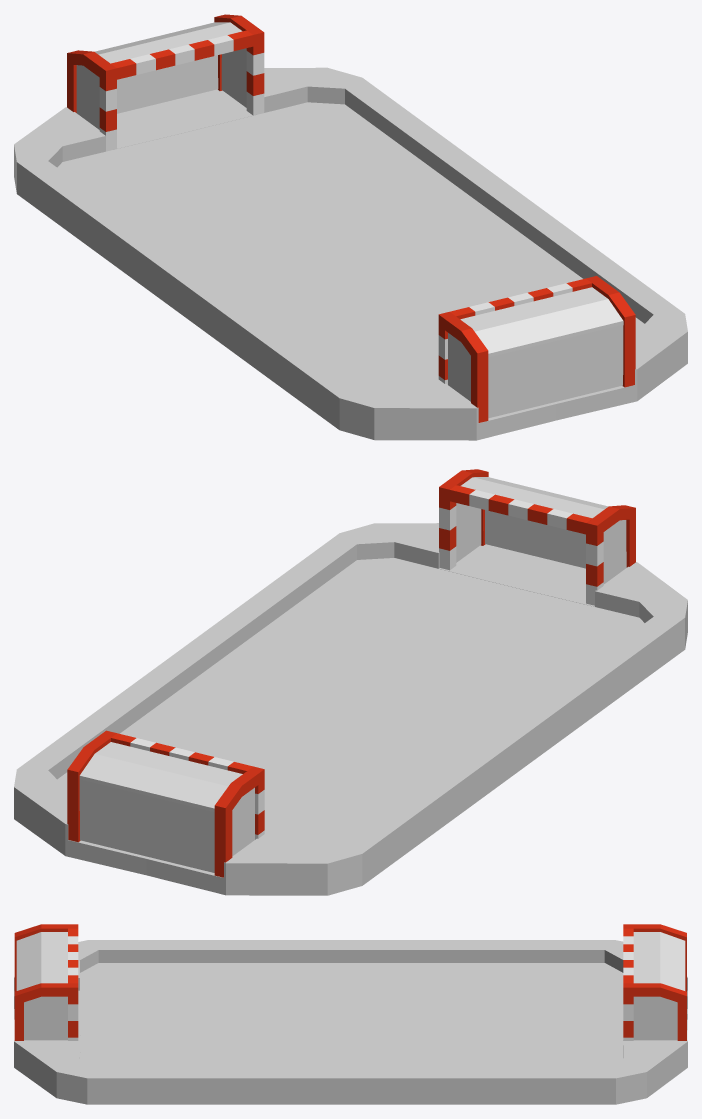
File: saha1 1.fbx
The picture shows the model from 3 angles, top to bottom: view 1: azimuth 30°, elevation 25°; view 2: azimuth 150°, elevation 25°; view 3: azimuth 270°, elevation 25°; orthographic projection. The views are drawn at different scales.
Parts seen in each view (by area): view 1: Ground, Goal; view 2: Ground, Goal; view 3: Ground, Goal.
Part boxes in pixels (x1,y1,x2,y2): Ground: (14,67,687,440); Goal: (67,14,635,422); Ground: (14,523,687,895); Goal: (67,469,635,877); Ground: (14,940,687,1104); Goal: (14,924,686,1040).
Bounding box in the file's own units: 11.04 × 22.75 × 2.96.
